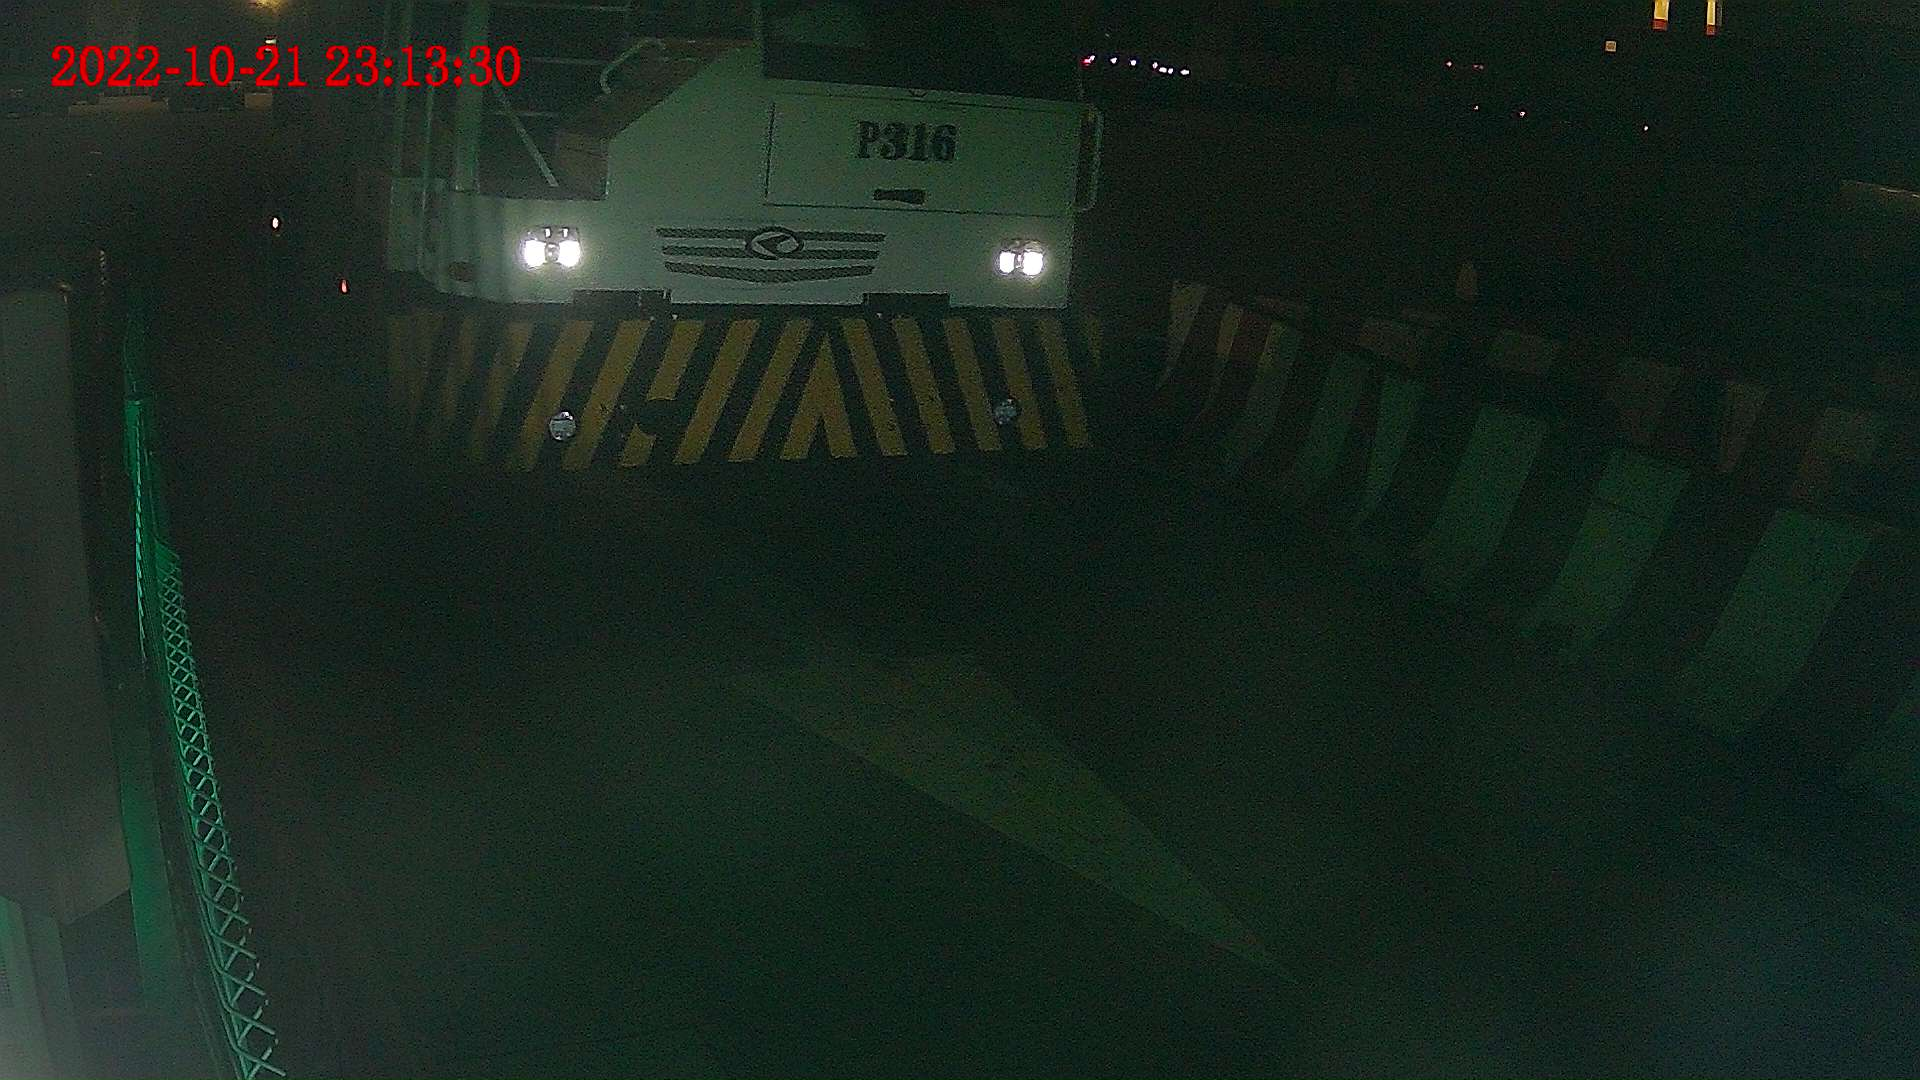head: (330, 1, 1110, 486)
